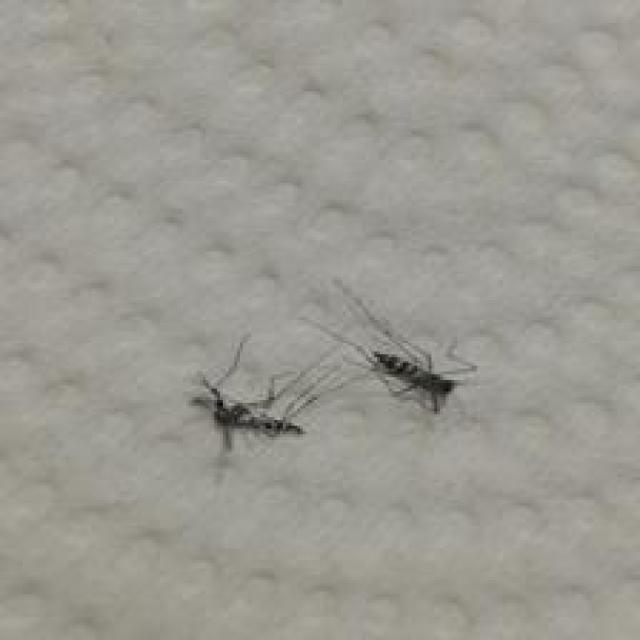Aedes albopictus: (190, 333, 344, 453)
